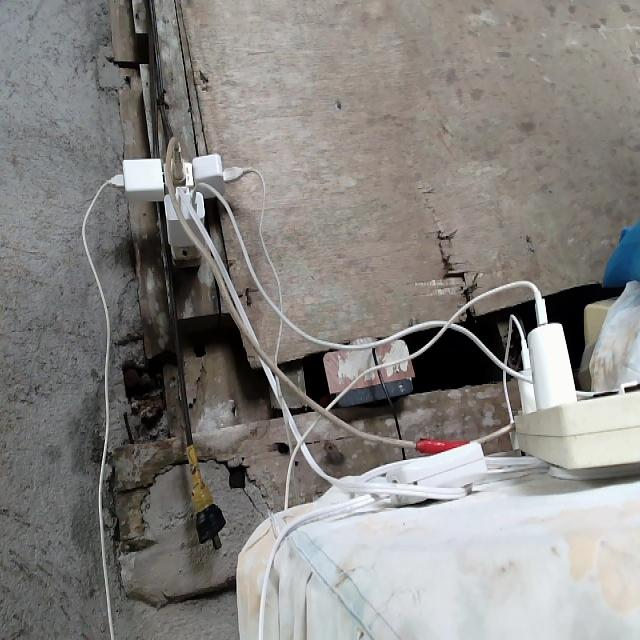-: (105, 132, 245, 268)
